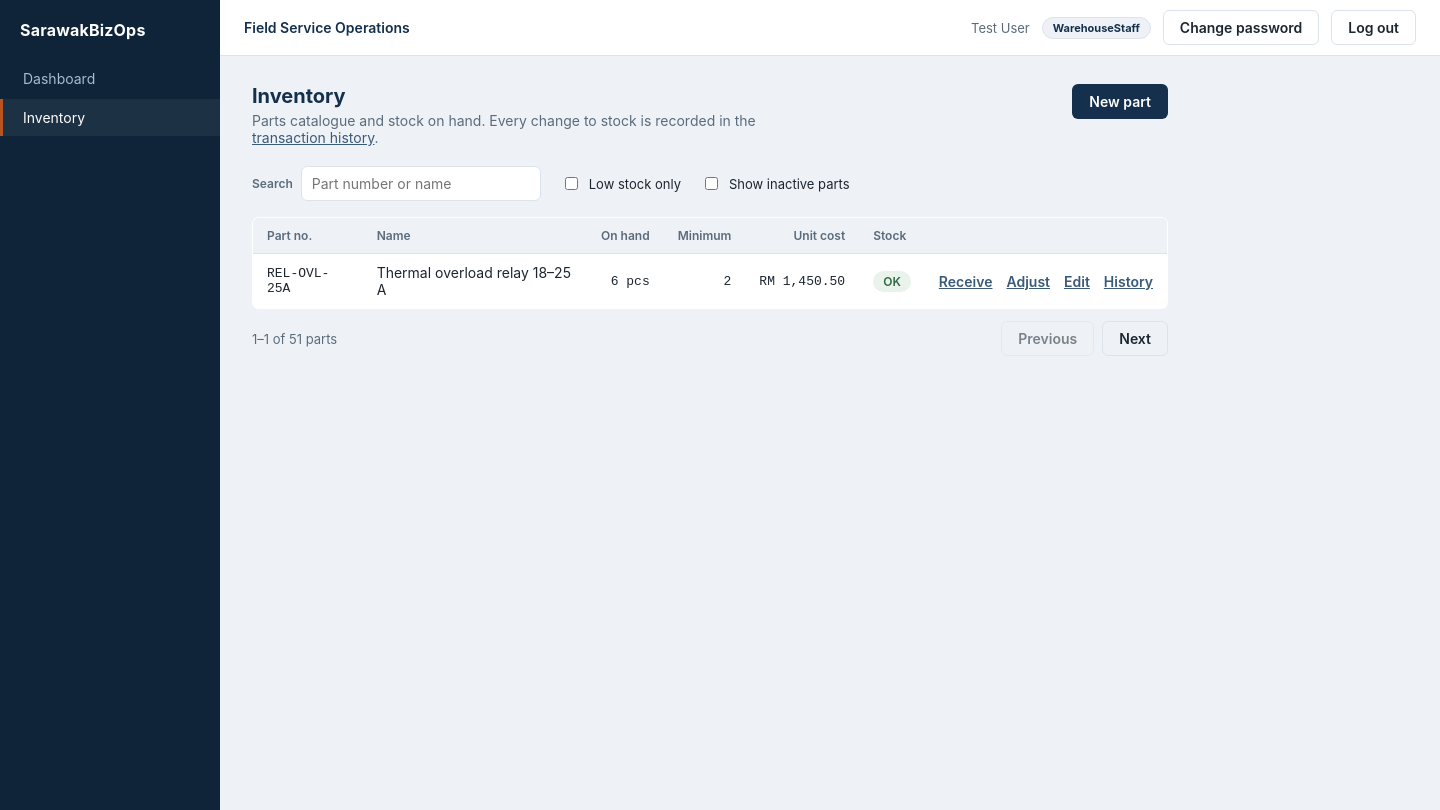
Scenario: Inventory list › pages through a large catalogue on the server
Expected: the text "REL-OVL-25A" is shown, [252,254,363,308]
Expected: the text "1–1 of 51 parts" is shown, [252,330,337,346]
What coordinates should you click on to do the following:
click the button "Next"
I would click on:
 (1135, 338)
Its box is [1102,321,1168,356].
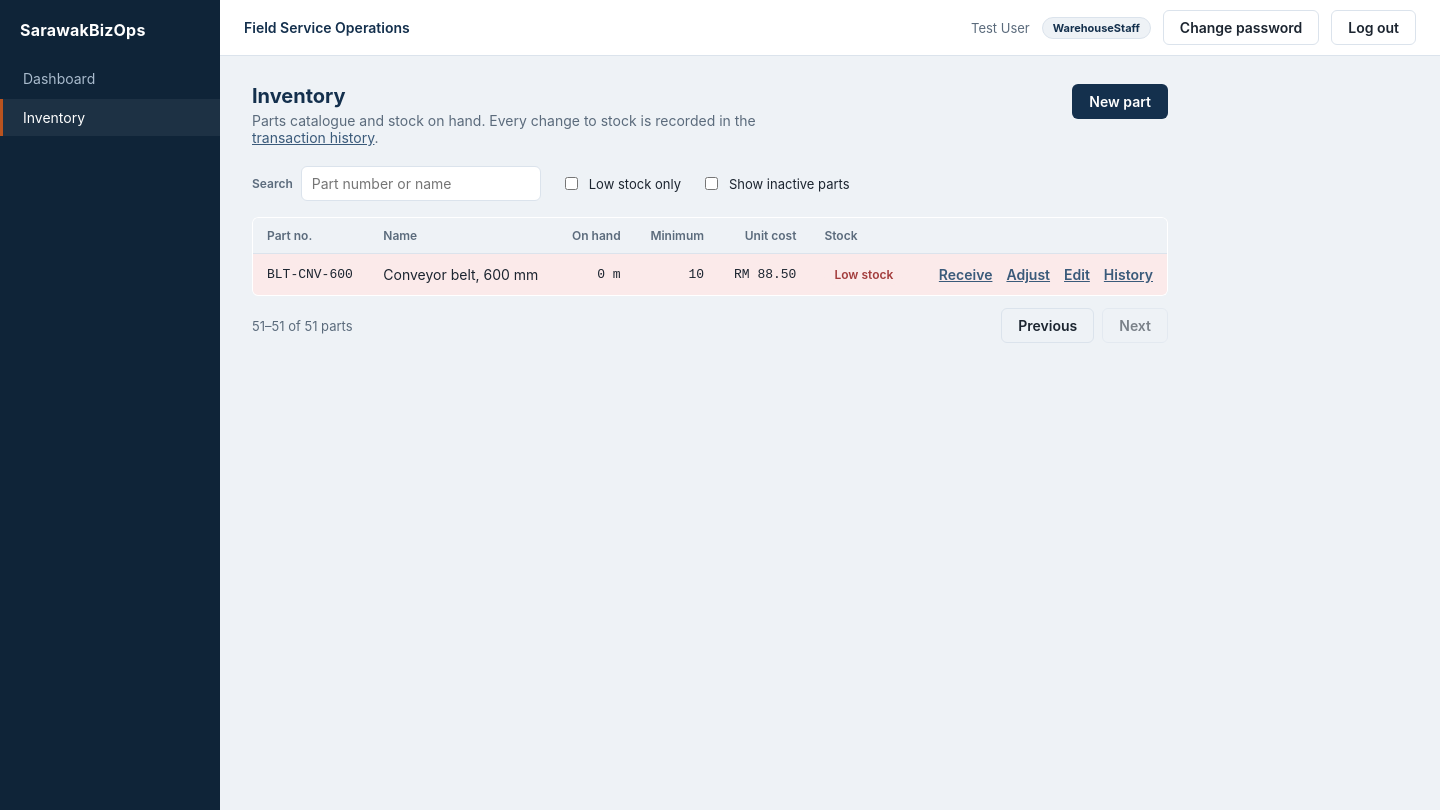
Expected: the text "BLT-CNV-600" is shown, [252,254,369,296]
Expected: the text "REL-OVL-25A" is gone
Expected: the button "Next" is disabled, [1102,308,1168,343]
